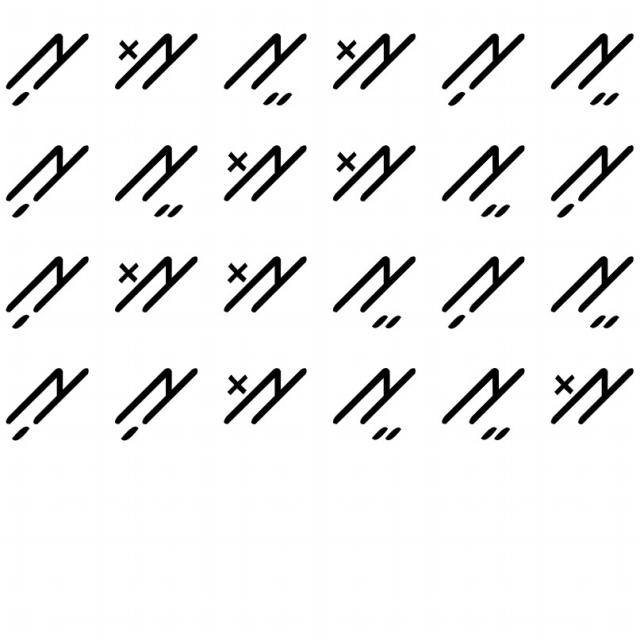wo: (326, 16, 419, 100), (106, 21, 200, 98), (221, 134, 310, 215), (218, 248, 310, 322), (110, 246, 202, 316), (329, 137, 418, 209)
wu: (106, 351, 199, 449), (5, 18, 93, 117), (2, 135, 96, 222), (437, 25, 528, 111), (1, 252, 90, 338), (548, 138, 634, 224), (5, 362, 93, 446), (441, 252, 528, 336)
